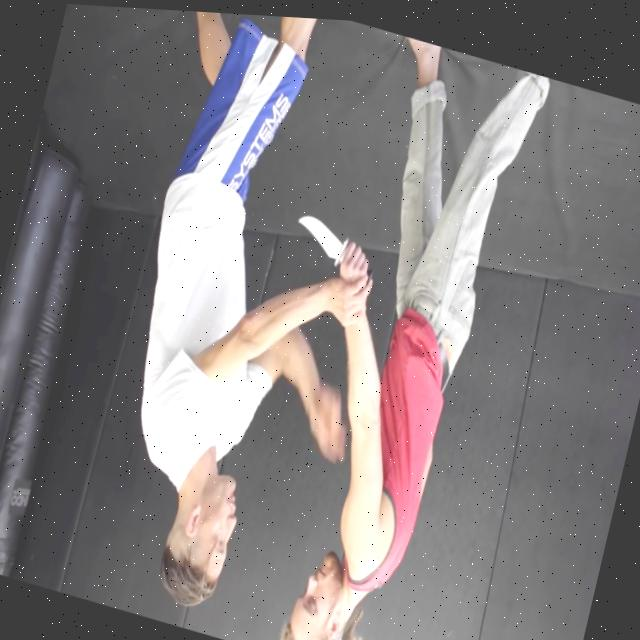knife: (288, 204, 350, 264)
